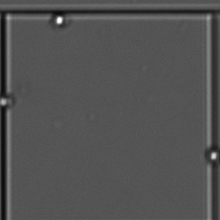Living Cell: (46, 9, 71, 30), (1, 89, 16, 113)
